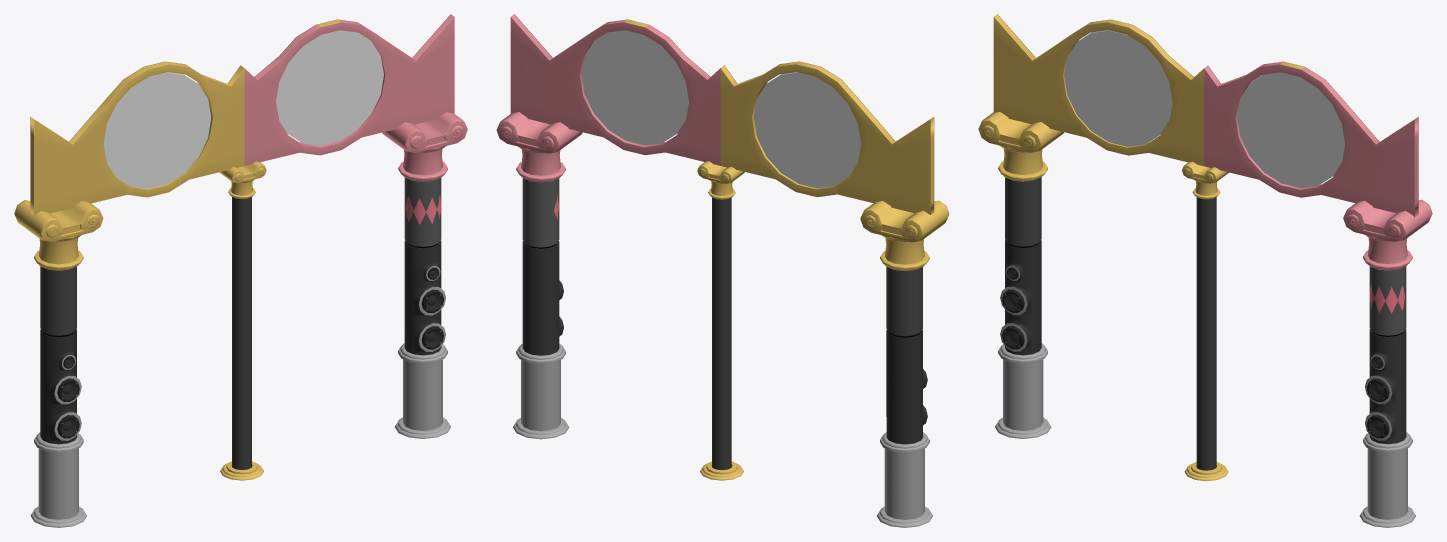
The model's file is Door.fbx.
3 views of the same model, side by side, from view 1: azimuth 30°, elevation 25°; view 2: azimuth 150°, elevation 25°; view 3: azimuth 330°, elevation 25° (orthographic).
Parts seen in each view (by area): view 1: polySurface36, polySurface1, polySurface27, polySurface42, polySurface30, polySurface13, polySurface10, polySurface26, polySurface35, polySurface34, polySurface33, polySurface32 (+2 smaller); view 2: polySurface36, polySurface1, polySurface27, polySurface42, polySurface30, polySurface13, polySurface10, polySurface26, polySurface35, polySurface34, polySurface33, polySurface32 (+2 smaller); view 3: polySurface36, polySurface1, polySurface27, polySurface42, polySurface30, polySurface13, polySurface26, polySurface10, polySurface34, polySurface35, polySurface33, polySurface32 (+2 smaller).
Part boxes in pixels (x1,y1,x2,y2): polySurface36: (30, 14, 454, 215); polySurface1: (103, 72, 211, 188); polySurface27: (276, 30, 383, 145); polySurface42: (404, 177, 445, 355); polySurface30: (40, 266, 81, 444); polySurface13: (232, 197, 251, 469); polySurface10: (30, 432, 86, 527); polySurface26: (395, 343, 450, 438); polySurface35: (14, 200, 103, 241); polySurface34: (382, 112, 467, 153); polySurface33: (398, 146, 447, 181); polySurface32: (34, 234, 83, 270); polySurface36: (510, 14, 934, 214); polySurface1: (753, 72, 860, 188); polySurface27: (581, 30, 688, 145); polySurface42: (522, 178, 563, 355); polySurface30: (886, 267, 927, 444); polySurface13: (712, 197, 731, 470); polySurface10: (877, 432, 932, 527); polySurface26: (513, 343, 569, 439); polySurface35: (860, 200, 949, 242); polySurface34: (496, 112, 582, 153); polySurface33: (516, 146, 565, 182); polySurface32: (880, 235, 929, 270); polySurface36: (993, 14, 1418, 217); polySurface1: (1064, 30, 1172, 146); polySurface27: (1237, 72, 1344, 187); polySurface42: (1365, 266, 1406, 444); polySurface30: (1000, 177, 1041, 355); polySurface13: (1196, 197, 1216, 470); polySurface26: (1359, 432, 1415, 527); polySurface10: (995, 343, 1051, 438); polySurface34: (1343, 199, 1432, 241); polySurface35: (978, 112, 1063, 152); polySurface33: (1363, 234, 1412, 270); polySurface32: (998, 145, 1047, 181).
Size of the model in its own units: 211 by 202 by 24.9.
